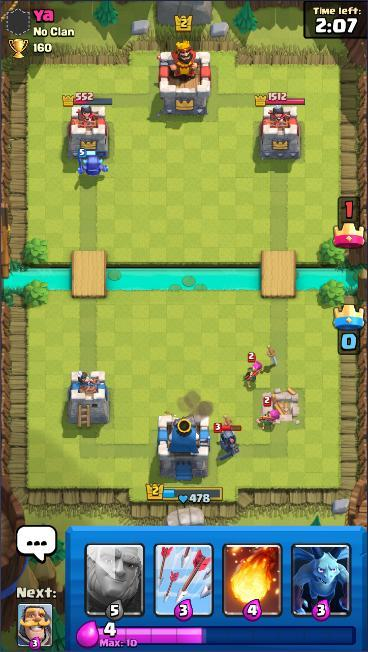EGoblinCage: (75, 147, 110, 178)
EMiner: (254, 395, 282, 436), (241, 349, 266, 391)
OBat: (213, 421, 244, 465)
